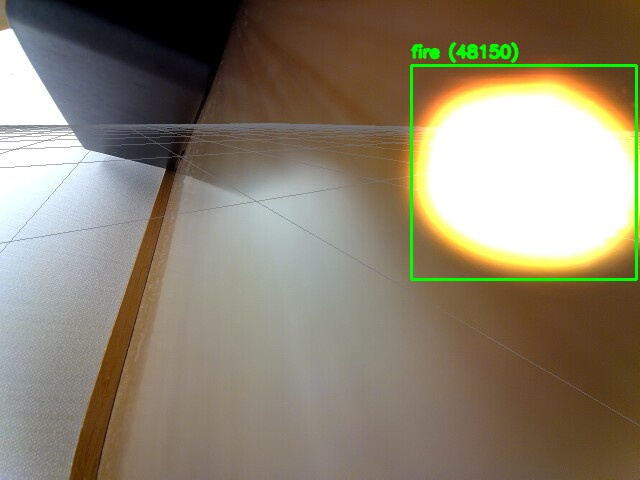fire: (411, 65, 636, 279)
